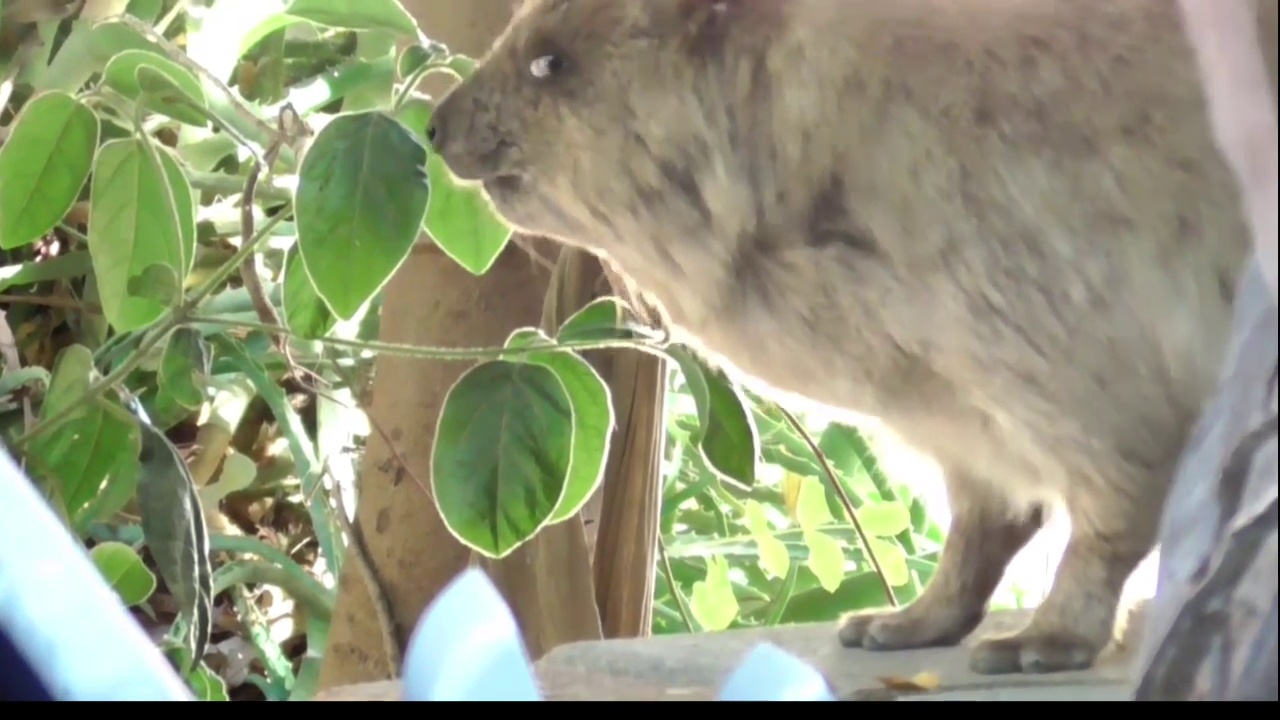Rock Hyrex: (426, 2, 1266, 674)
